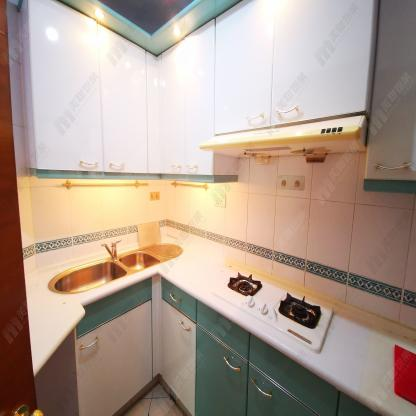Cupboard: (19, 0, 161, 179)
Exhaust Hood: (197, 111, 369, 170)
Faucet: (101, 237, 123, 262)
Sink: (36, 236, 196, 315)
Stove: (201, 267, 337, 367)
